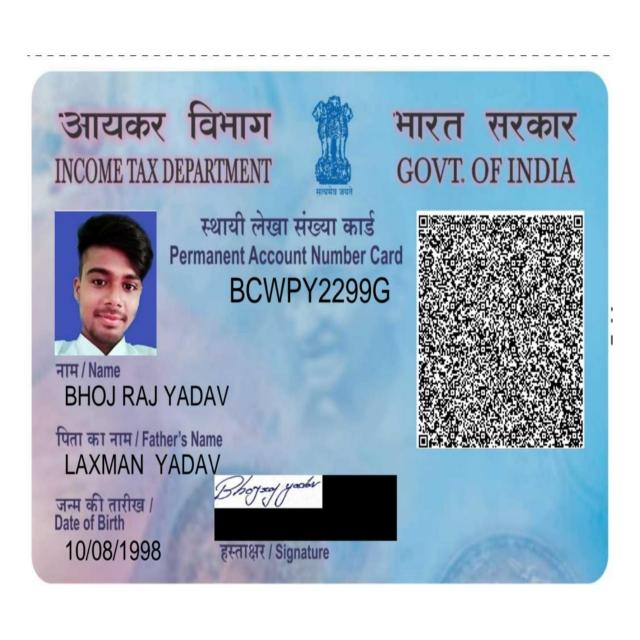pan_card: (37, 72, 602, 578)
